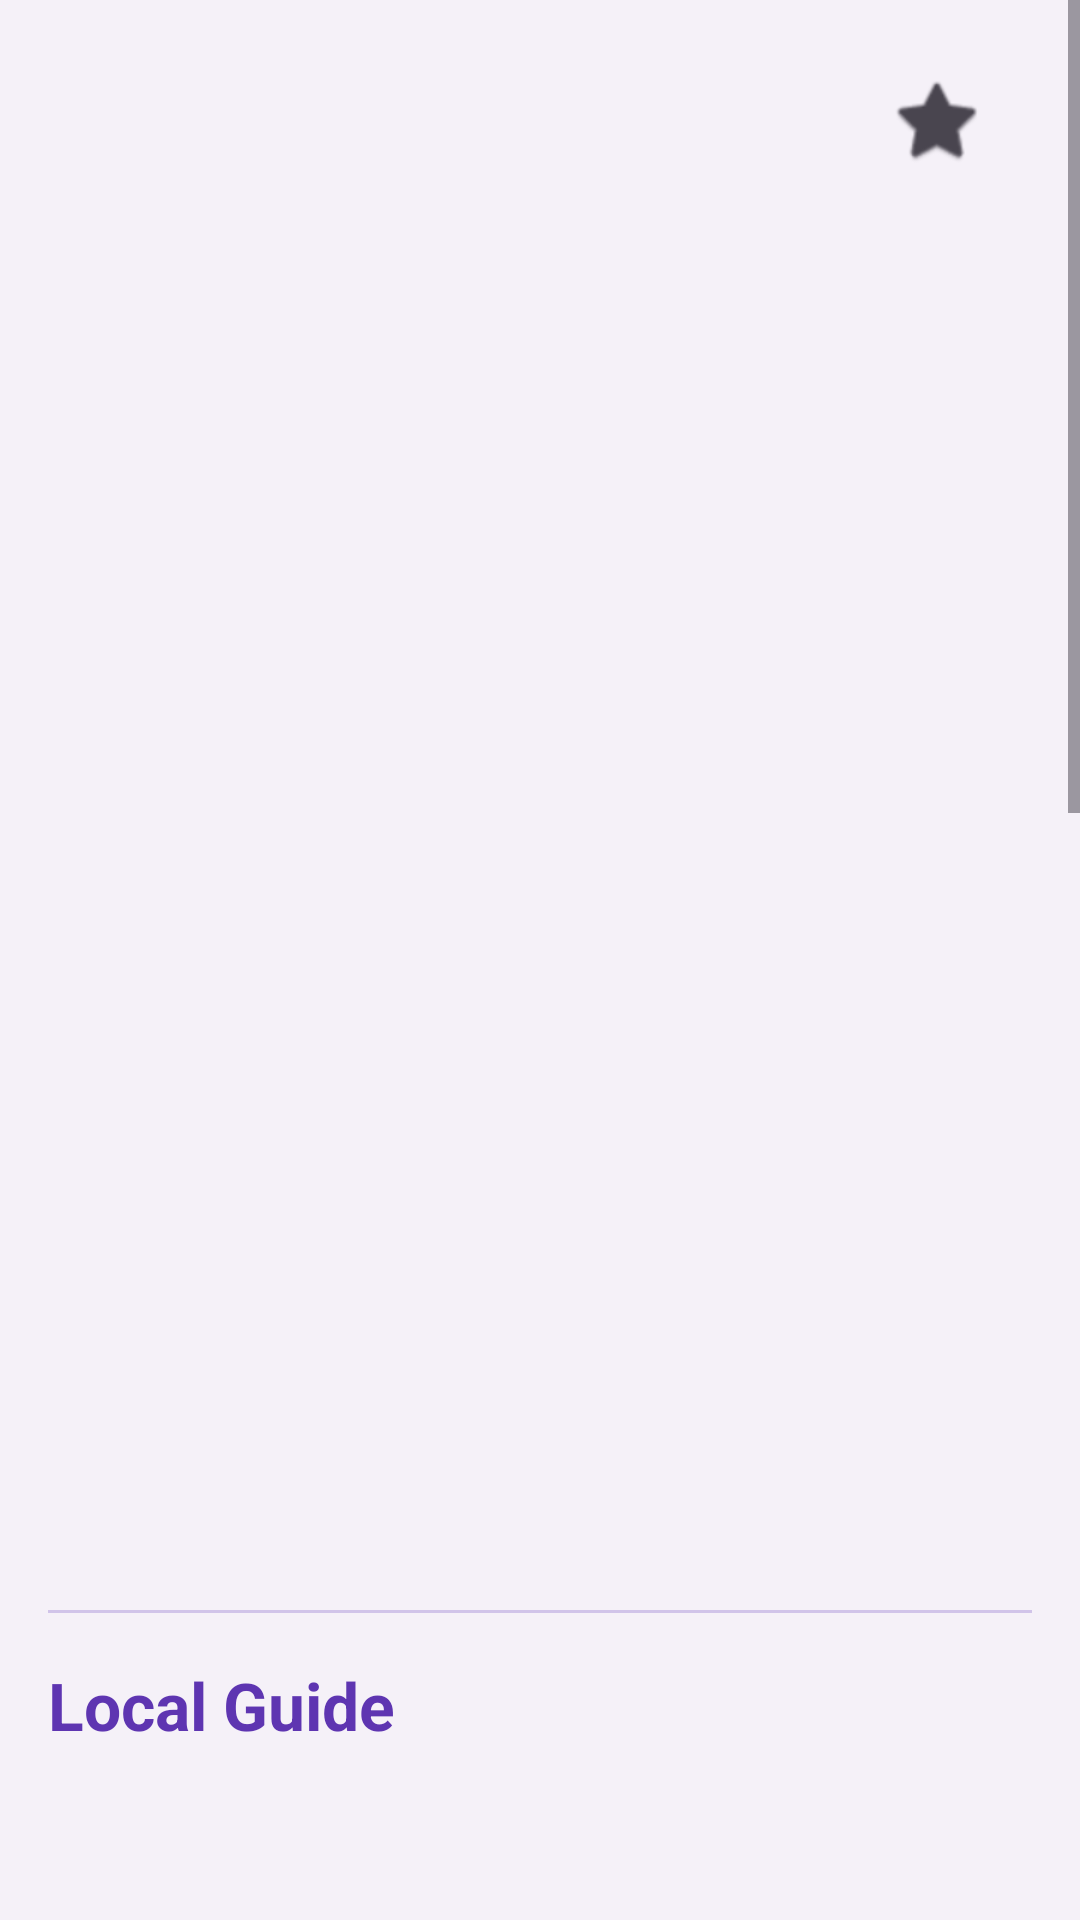

Screen size 1080*1920. Icon name, then its box in pixels as Rect(x1, y1, x2, y2):
star: Rect(897, 82, 977, 159)
